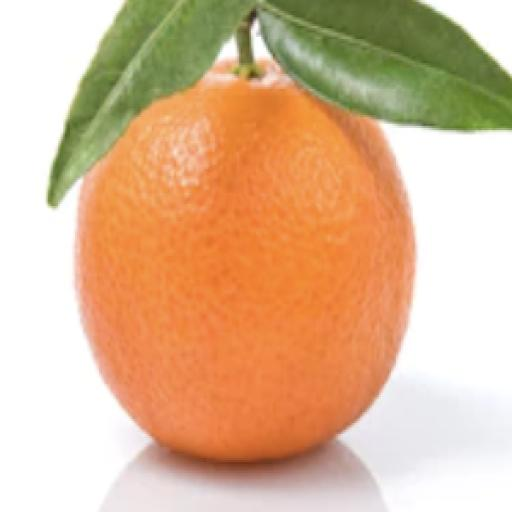orange: (77, 63, 414, 459)
